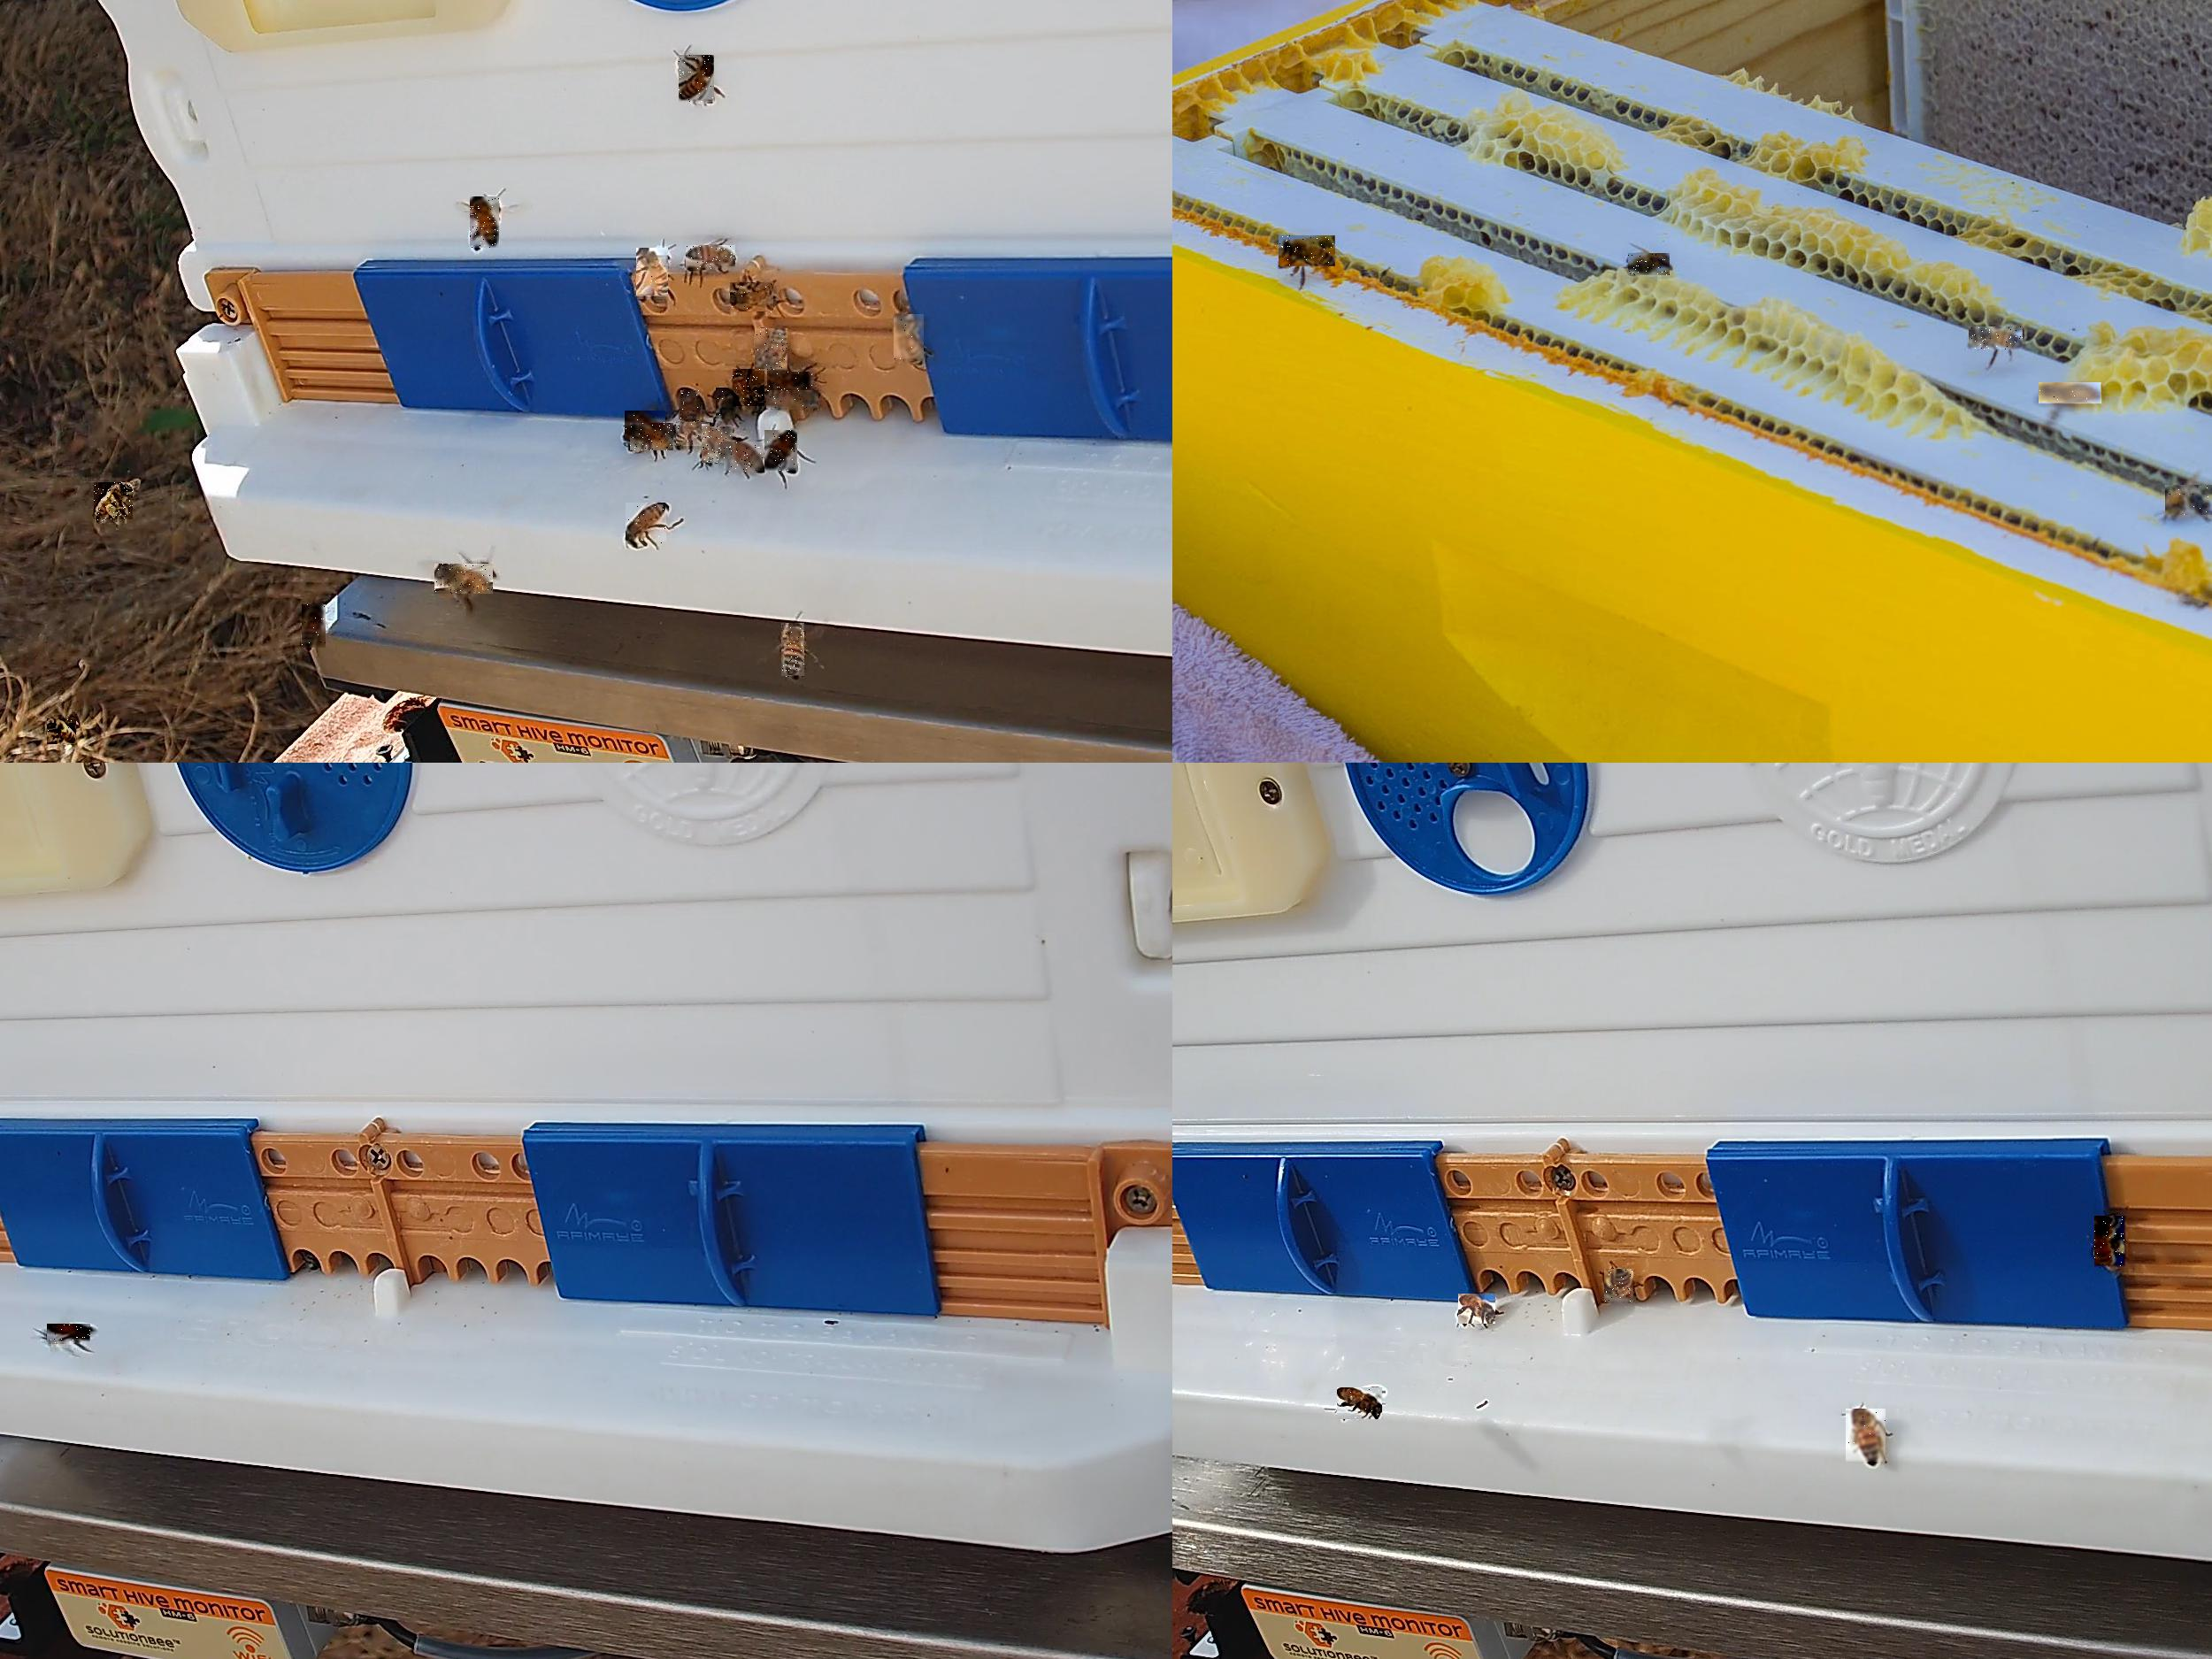bee: (1846, 1410, 1886, 1464), (434, 563, 495, 594), (627, 504, 671, 545), (1278, 235, 1336, 267), (679, 56, 716, 105), (636, 249, 669, 300), (1338, 1387, 1386, 1420), (470, 197, 500, 251), (2040, 383, 2104, 408), (754, 329, 789, 373), (730, 282, 775, 315), (2165, 484, 2210, 518), (894, 315, 925, 362), (765, 430, 798, 474), (1968, 326, 2024, 350), (782, 624, 805, 680), (733, 369, 765, 410), (625, 411, 667, 441), (686, 246, 737, 270), (631, 423, 674, 451), (702, 427, 735, 464), (1458, 1293, 1496, 1324), (301, 605, 327, 650), (725, 443, 763, 472), (766, 390, 819, 411), (1629, 253, 1670, 277), (768, 371, 813, 392), (676, 423, 711, 450), (47, 1324, 91, 1345), (47, 718, 77, 746), (681, 390, 700, 425), (716, 389, 735, 418)
pollenbee: (2095, 1216, 2128, 1270), (94, 483, 134, 523), (1604, 1269, 1634, 1303)
